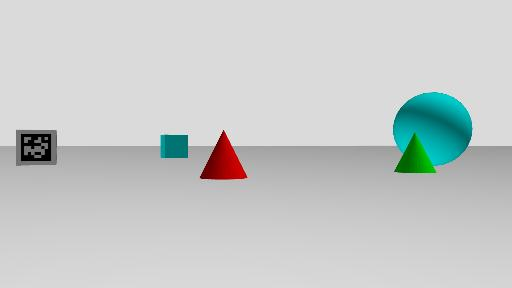green_cone: (393, 131, 436, 174)
red_cone: (199, 129, 248, 180)
